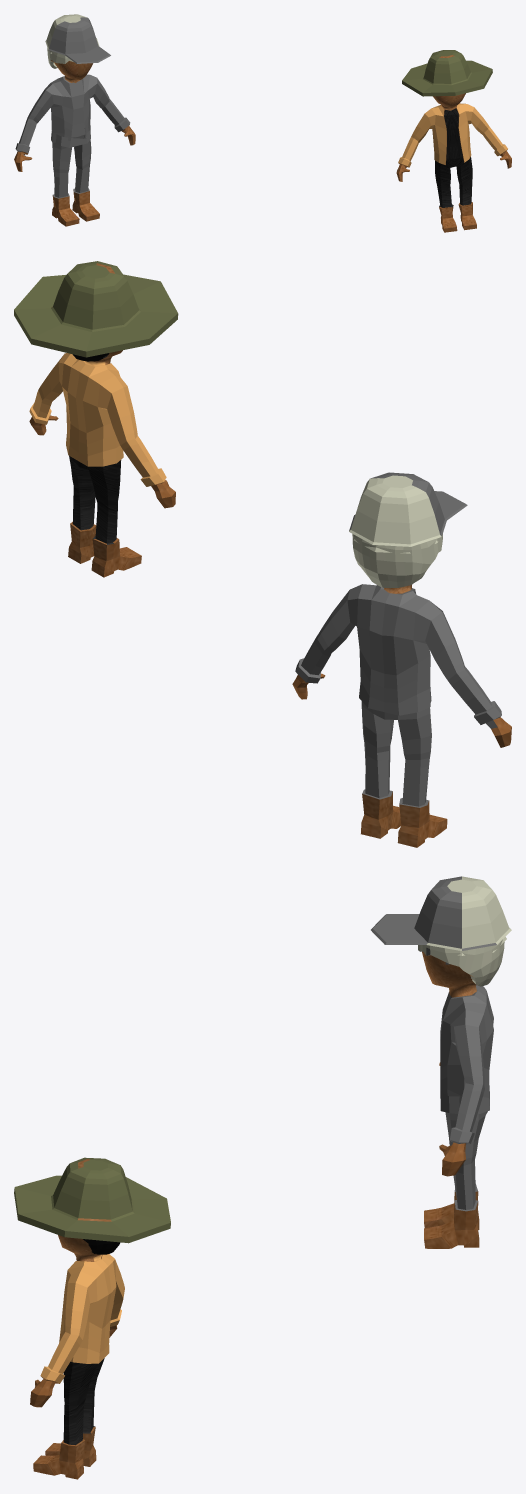
The model's file is b farmer.fbx.
3 renders of one model, top to bottom at view 1: azimuth 30°, elevation 25°; view 2: azimuth 150°, elevation 25°; view 3: azimuth 270°, elevation 25°, orthographic. The views are drawn at different scales.
Parts seen in each view (by area): view 1: Character, Character.001; view 2: Character, Character.001; view 3: Character.001, Character.
Part boxes in pixels (bbox=[...]): Character: bbox=[14, 14, 135, 226]; Character.001: bbox=[396, 50, 511, 232]; Character: bbox=[292, 472, 511, 847]; Character.001: bbox=[14, 261, 178, 577]; Character.001: bbox=[14, 1157, 170, 1479]; Character: bbox=[371, 876, 511, 1248].
Size of the model in its own units: 120 by 58.86 by 76.32.
